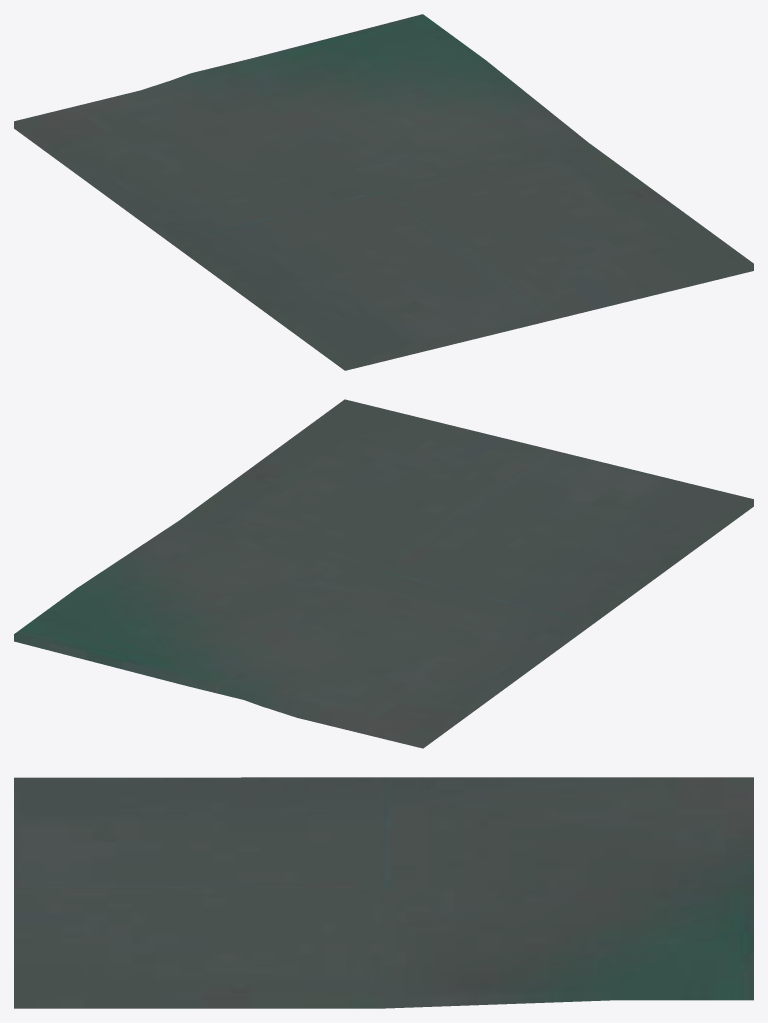
The picture shows the model from 3 angles, top to bottom: view 1: azimuth 30°, elevation 25°; view 2: azimuth 150°, elevation 25°; view 3: azimuth 270°, elevation 25°; orthographic projection. The views are drawn at different scales.
Visible parts, largest first — view 1: 3043627270437063762_0; view 2: 3043627270437063762_0; view 3: 3043627270437063762_0.
Part boxes in pixels (bbox=[...]): 3043627270437063762_0: bbox=[14, 14, 753, 370]; 3043627270437063762_0: bbox=[14, 399, 753, 748]; 3043627270437063762_0: bbox=[14, 777, 753, 1008].
Bounding box in the file's own units: 54.63 × 2.19 × 76.53.
1 material, 1 textured.
